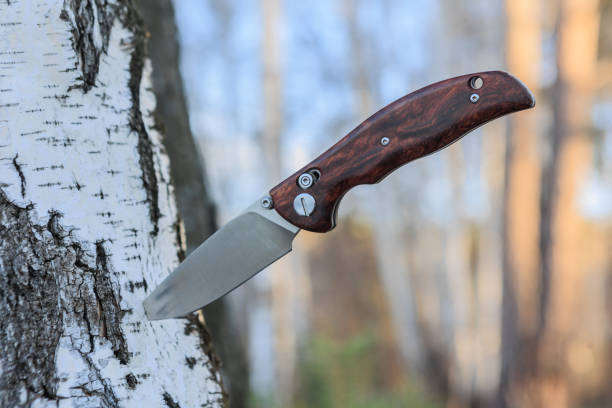knife: (141, 67, 539, 323)
